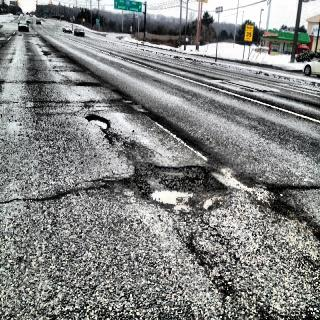alligator-crack: (117, 133, 163, 162)
crack: (1, 184, 100, 202)
pothole: (116, 158, 230, 212), (262, 178, 320, 236), (112, 87, 151, 118), (83, 110, 114, 135), (76, 77, 102, 92)
